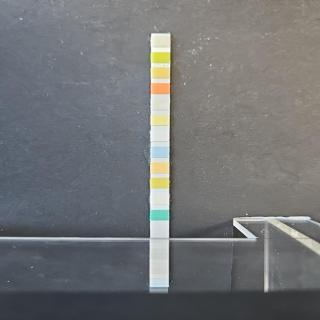mark: (150, 98, 170, 112), (150, 161, 170, 174), (150, 193, 170, 206), (151, 67, 170, 80), (150, 36, 170, 48), (150, 52, 170, 64), (151, 83, 171, 95), (150, 146, 170, 158), (151, 114, 169, 126), (151, 130, 169, 142), (150, 178, 168, 190), (150, 209, 168, 221)
